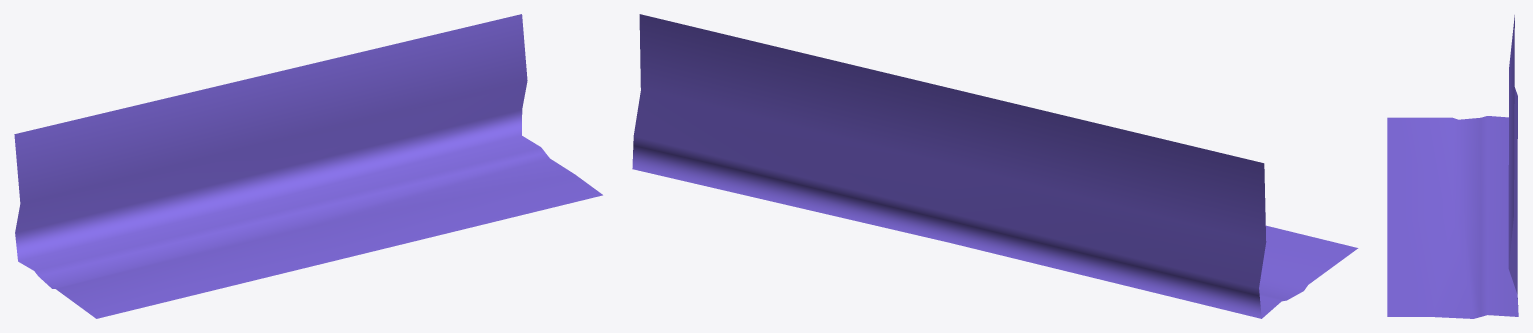
Rendered from backdrop.gltf.
3 views of the same model, side by side, from view 1: azimuth 30°, elevation 25°; view 2: azimuth 150°, elevation 25°; view 3: azimuth 270°, elevation 25° (orthographic). The views are drawn at different scales.
Parts seen in each view (by area): view 1: Plane; view 2: Plane; view 3: Plane.
Boxes of the visible parts, x1,y1,x2,y2 form: Plane: (14, 14, 602, 318); Plane: (632, 14, 1358, 318); Plane: (1387, 15, 1518, 318).
Bounding box in the file's own units: 60.81 × 14.8 × 16.85.
